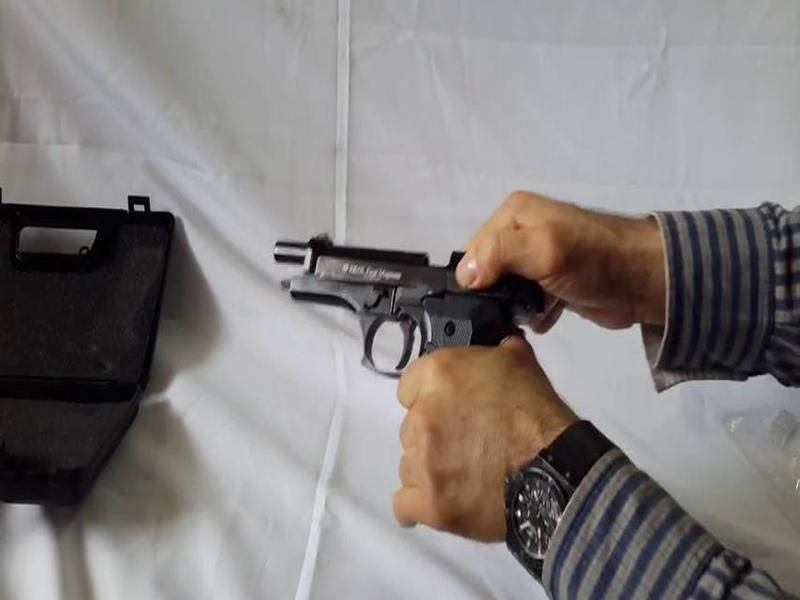Pistola: (252, 227, 566, 444)
